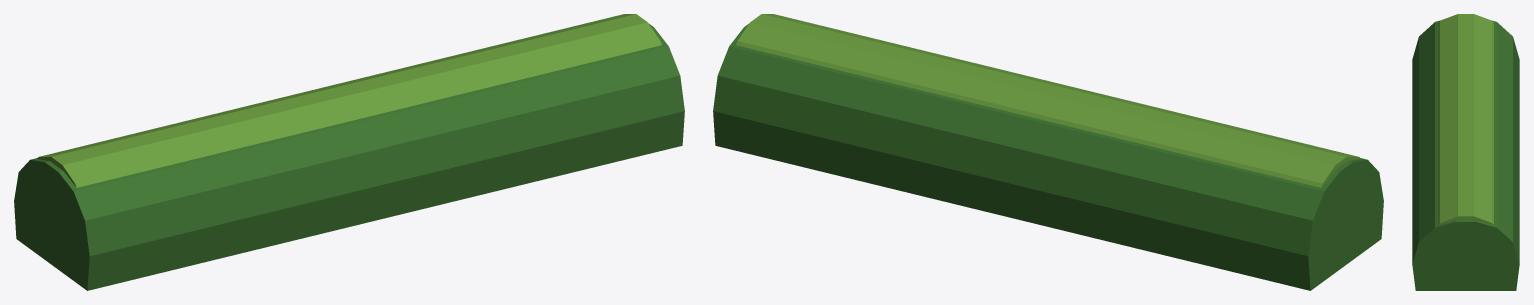
File: tebuske_1.glb
3 views of the same model, side by side, from view 1: azimuth 30°, elevation 25°; view 2: azimuth 150°, elevation 25°; view 3: azimuth 270°, elevation 25° (orthographic). The views are drawn at different scales.
Parts seen in each view (by area): view 1: tebuske_1; view 2: tebuske_1; view 3: tebuske_1.
Boxes of the visible parts, x1,y1,x2,y2 form: tebuske_1: [14, 14, 684, 290]; tebuske_1: [713, 14, 1383, 290]; tebuske_1: [1412, 14, 1519, 290].
Bounding box in the file's own units: 6 × 0.99 × 1.32.
